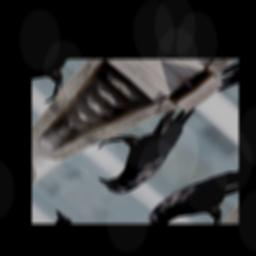Crow: (75, 88, 219, 201)
